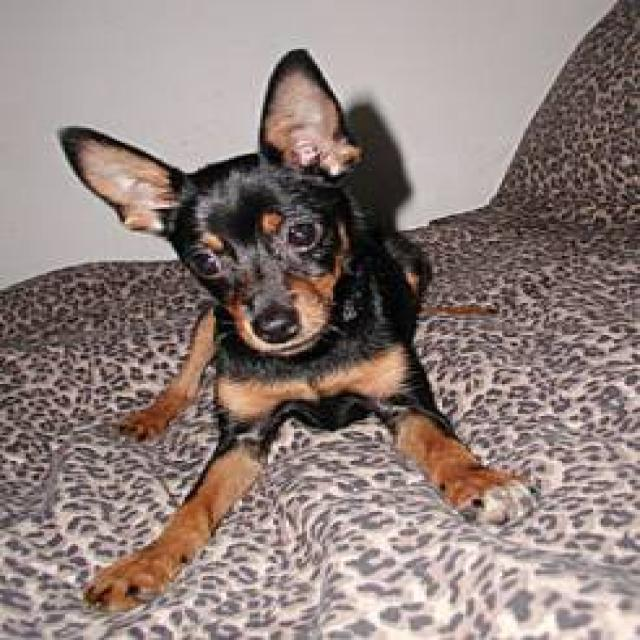dog-miniature_pinscher: (42, 36, 539, 610)
